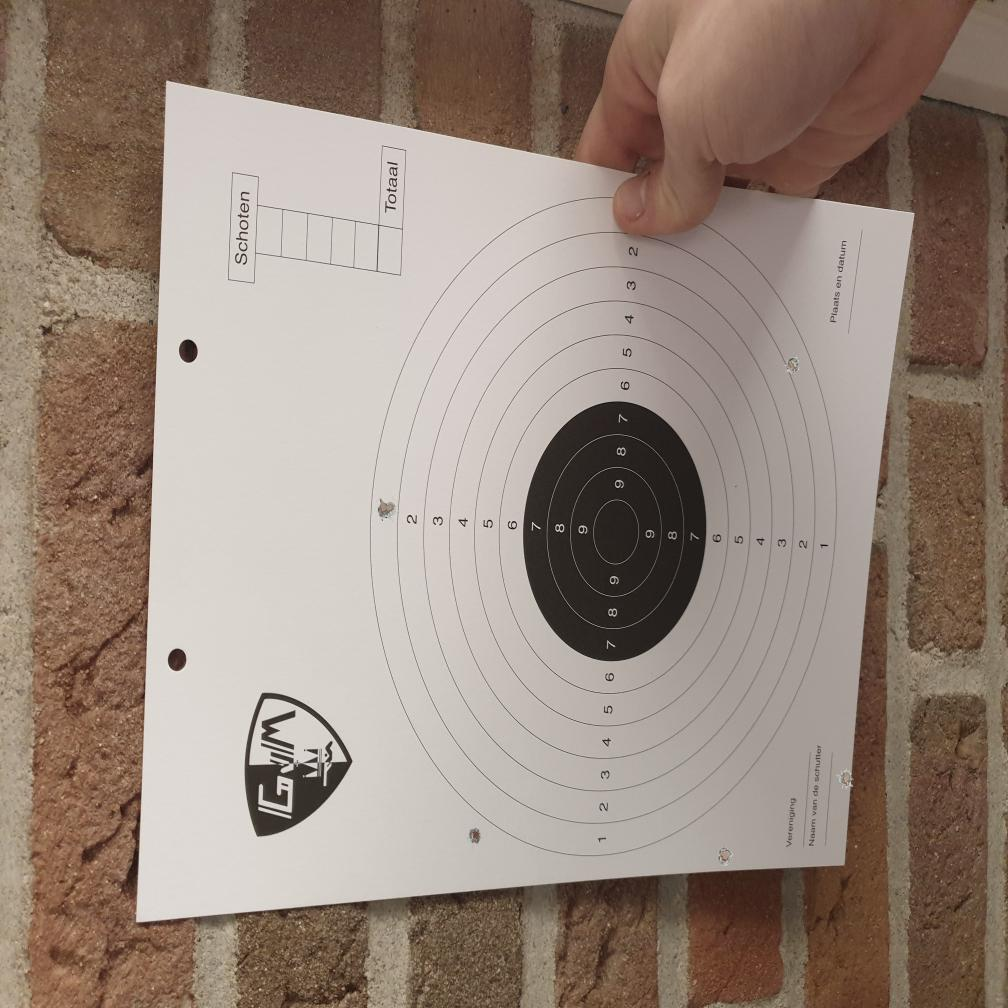0: (784, 355, 800, 375), (717, 846, 733, 865), (837, 770, 851, 787), (468, 827, 481, 844)
1: (375, 497, 387, 518)
2: (388, 502, 400, 522)
Target: (369, 204, 837, 858)
black_contour: (523, 401, 707, 661)
